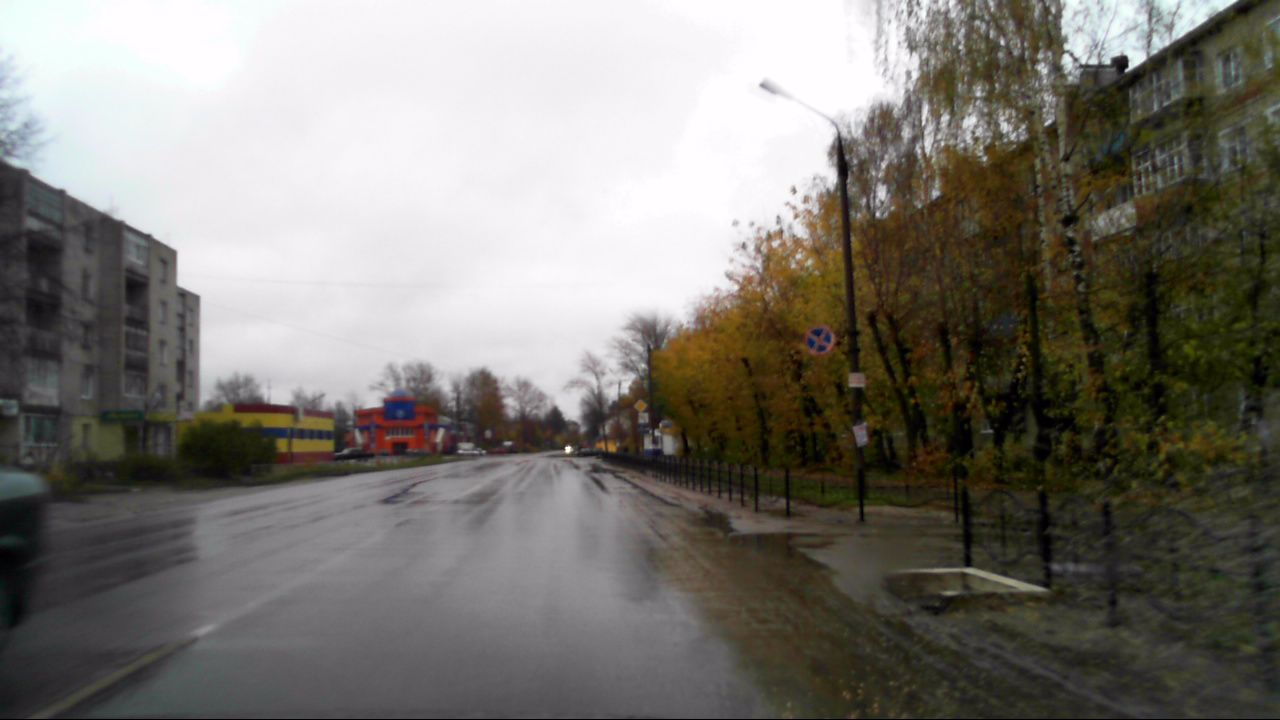No Parking: (803, 323, 836, 354)
